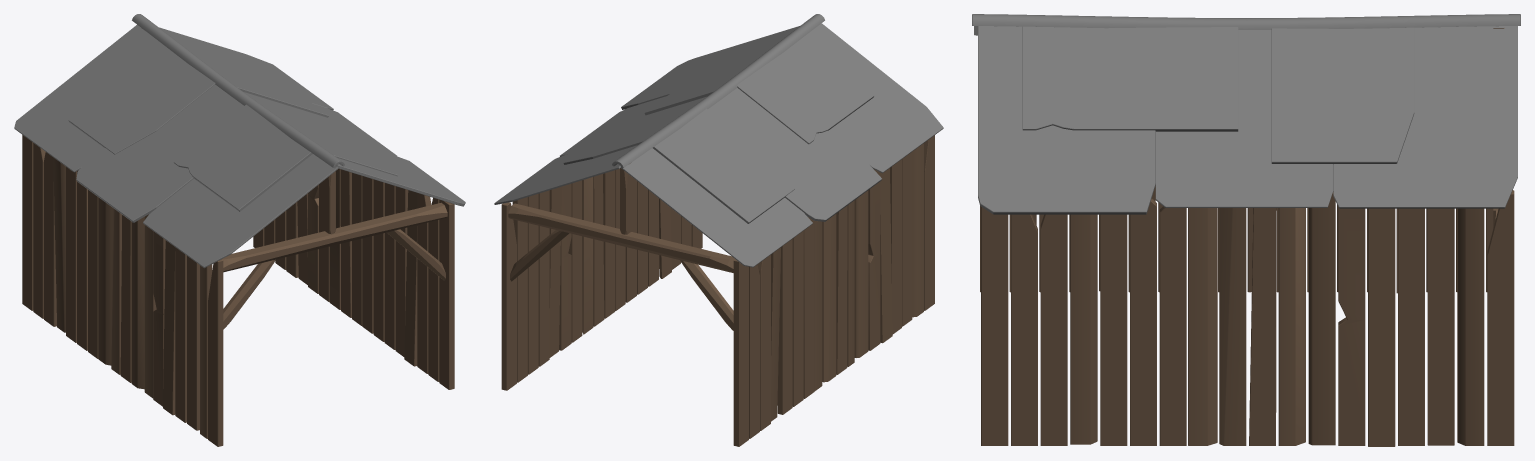
File: Building-M00A.fbx
3 views of the same model, side by side, from view 1: azimuth 30°, elevation 25°; view 2: azimuth 150°, elevation 25°; view 3: azimuth 270°, elevation 25° (orthographic). The views are drawn at different scales.
Parts seen in each view (by area): view 1: Building-M00A, Building-Roof-M00A; view 2: Building-M00A, Building-Roof-M00A; view 3: Building-M00A, Building-Roof-M00A.
Part boxes in pixels (x1,y1,x2,y2): Building-M00A: [22, 135, 454, 446]; Building-Roof-M00A: [14, 14, 465, 268]; Building-M00A: [501, 135, 934, 446]; Building-Roof-M00A: [494, 14, 943, 267]; Building-M00A: [980, 28, 1514, 446]; Building-Roof-M00A: [972, 14, 1520, 214].
Size of the model in its own units: 824 by 757 by 1069.
